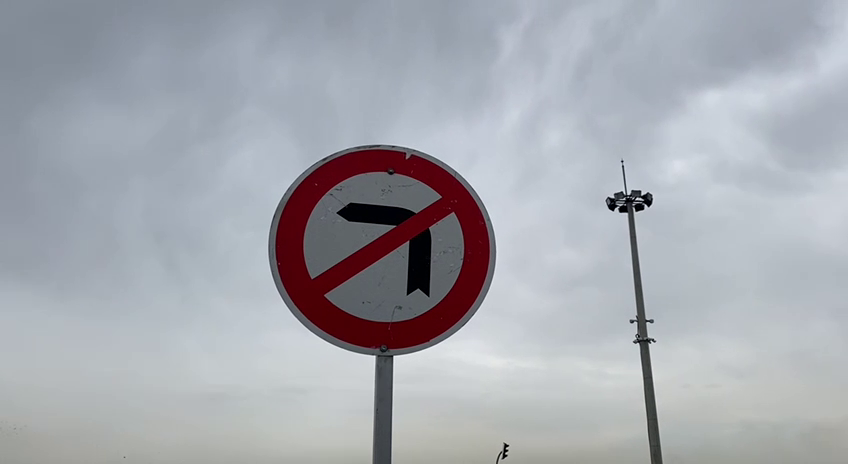noTurnLeft: (265, 136, 506, 359)
